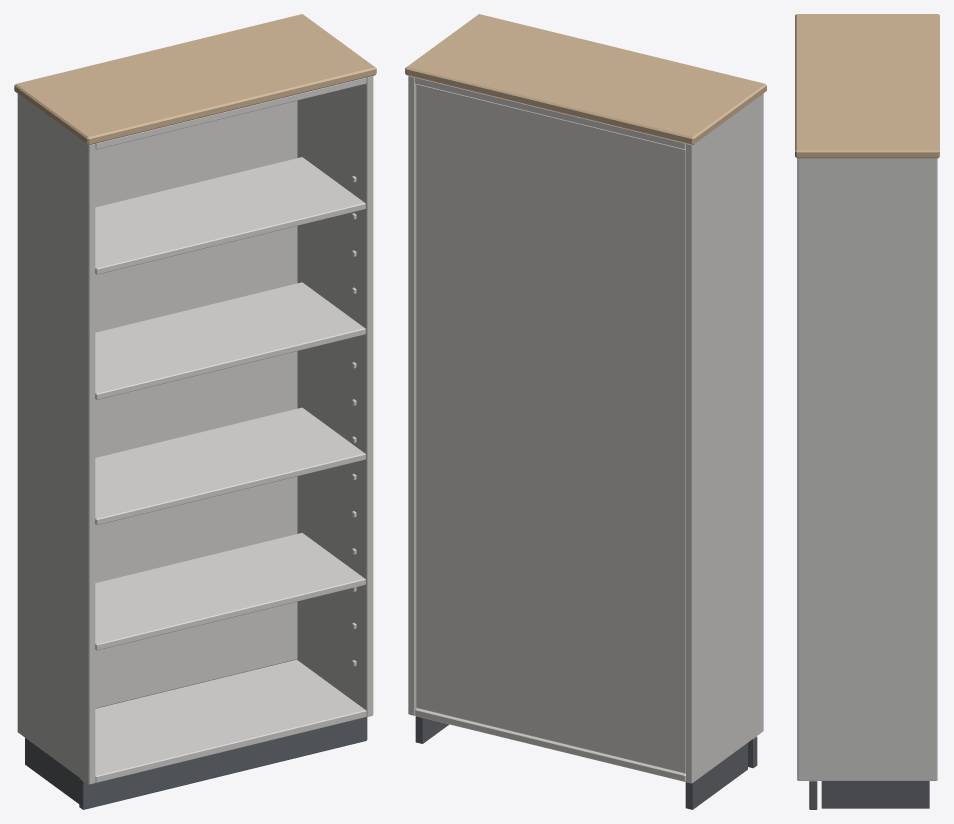
The model's file is bookcase-open.glb.
3 views of the same model, side by side, from view 1: azimuth 30°, elevation 25°; view 2: azimuth 150°, elevation 25°; view 3: azimuth 270°, elevation 25° (orthographic). The views are drawn at different scales.
Parts seen in each view (by area): view 1: bookcase-open; view 2: bookcase-open; view 3: bookcase-open.
Boxes of the visible parts, left/top/right/bottom form: bookcase-open: left=14, top=14, right=376, bottom=809; bookcase-open: left=405, top=14, right=766, bottom=809; bookcase-open: left=795, top=14, right=939, bottom=809.
Size of the model in its own units: 0.814 by 1.82 by 0.362.
